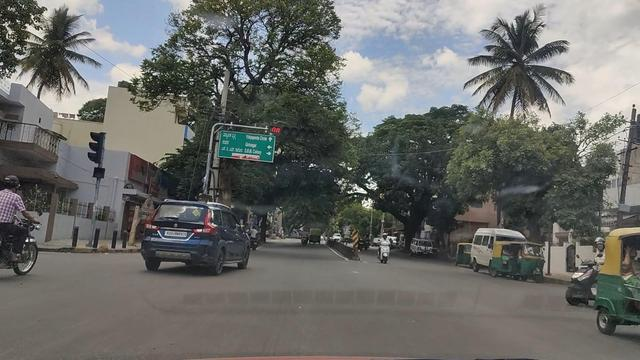LMV: (153, 194, 253, 277), (3, 184, 44, 267)
